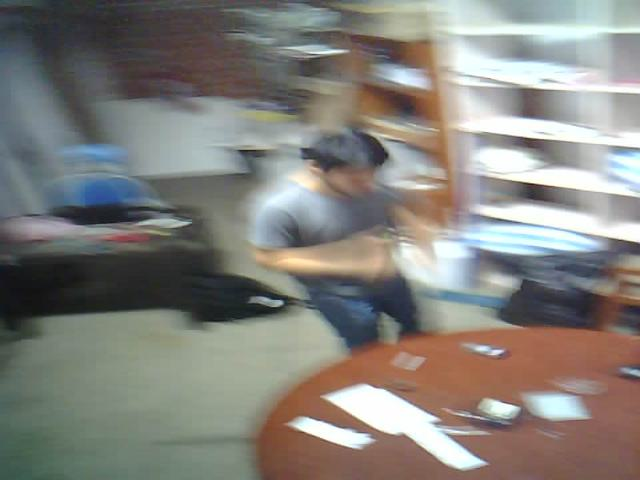person: (230, 102, 496, 394)
